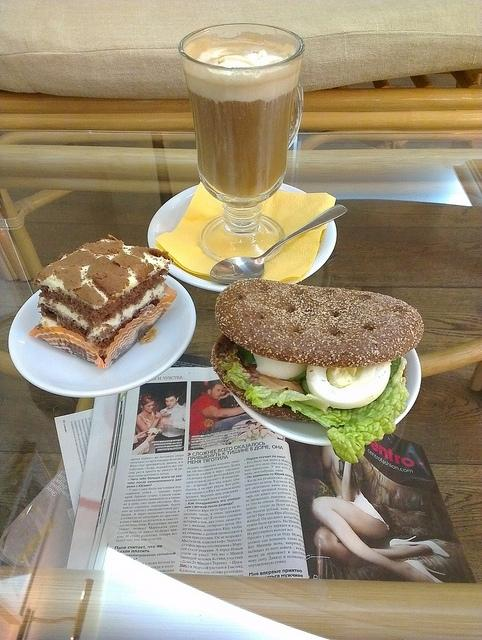lettuce: (284, 356, 410, 464)
